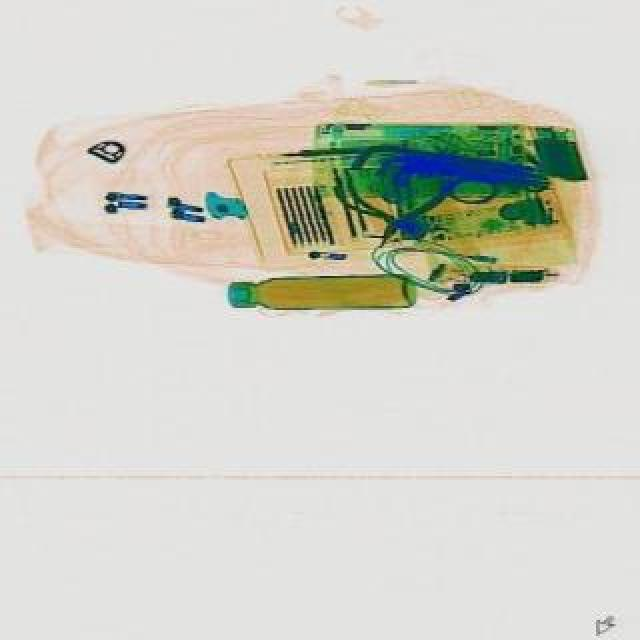wrench: (338, 162, 454, 250)
